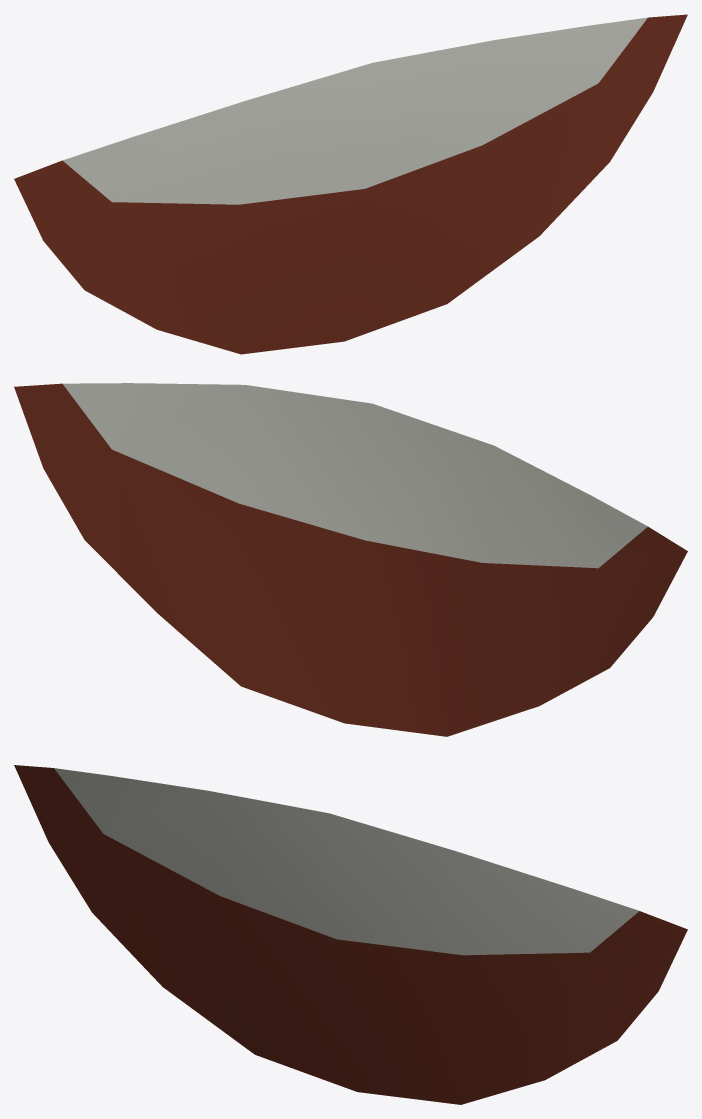
Rendered from Mouth_Brown_8.fbx.
3 views of the same model, one above another, from view 1: azimuth 30°, elevation 25°; view 2: azimuth 150°, elevation 25°; view 3: azimuth 330°, elevation 25° (orthographic).
Visible parts, largest first — view 1: Mouth_Brown_8; view 2: Mouth_Brown_8; view 3: Mouth_Brown_8.
Part boxes in pixels (left/top/right/bottom): Mouth_Brown_8: left=14, top=14, right=687, bottom=354; Mouth_Brown_8: left=14, top=383, right=687, bottom=736; Mouth_Brown_8: left=14, top=765, right=687, bottom=1104.
Size of the model in its own units: 9.33 by 3.96 by 0.6817.
